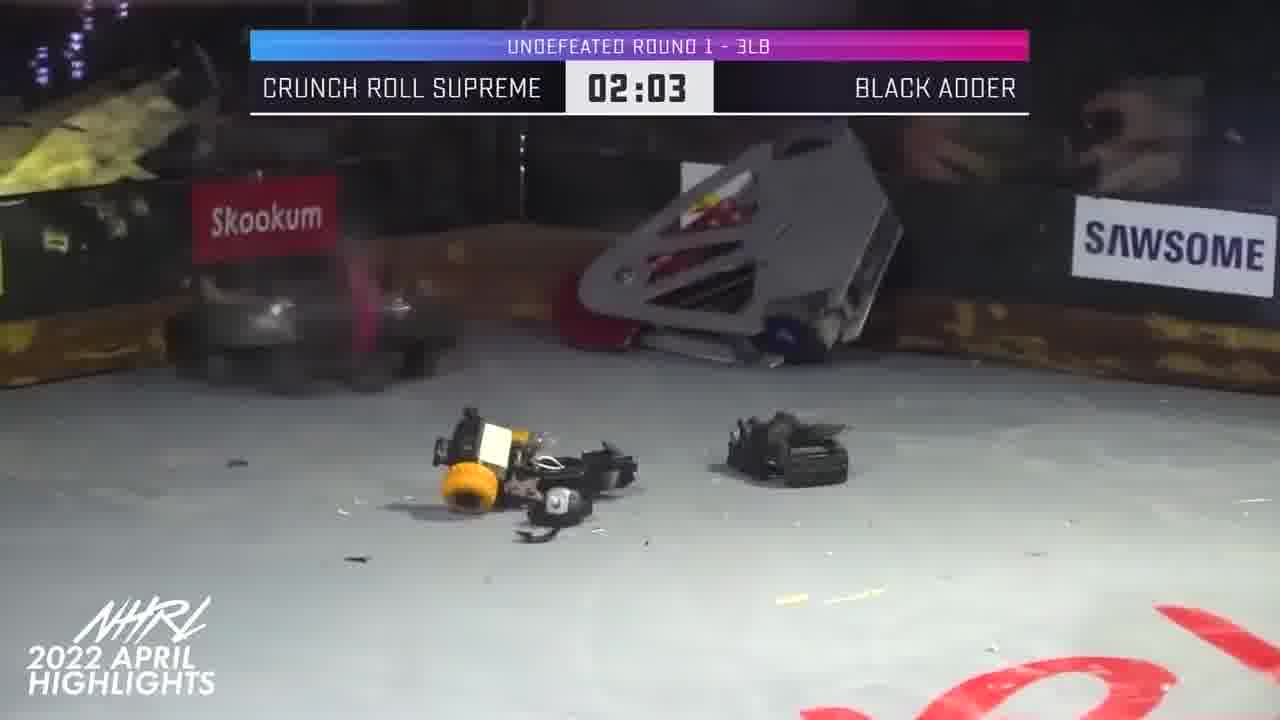combatbot: (566, 129, 907, 373), (164, 247, 460, 395)
debris: (722, 411, 855, 489)
minibot: (427, 407, 639, 538)
